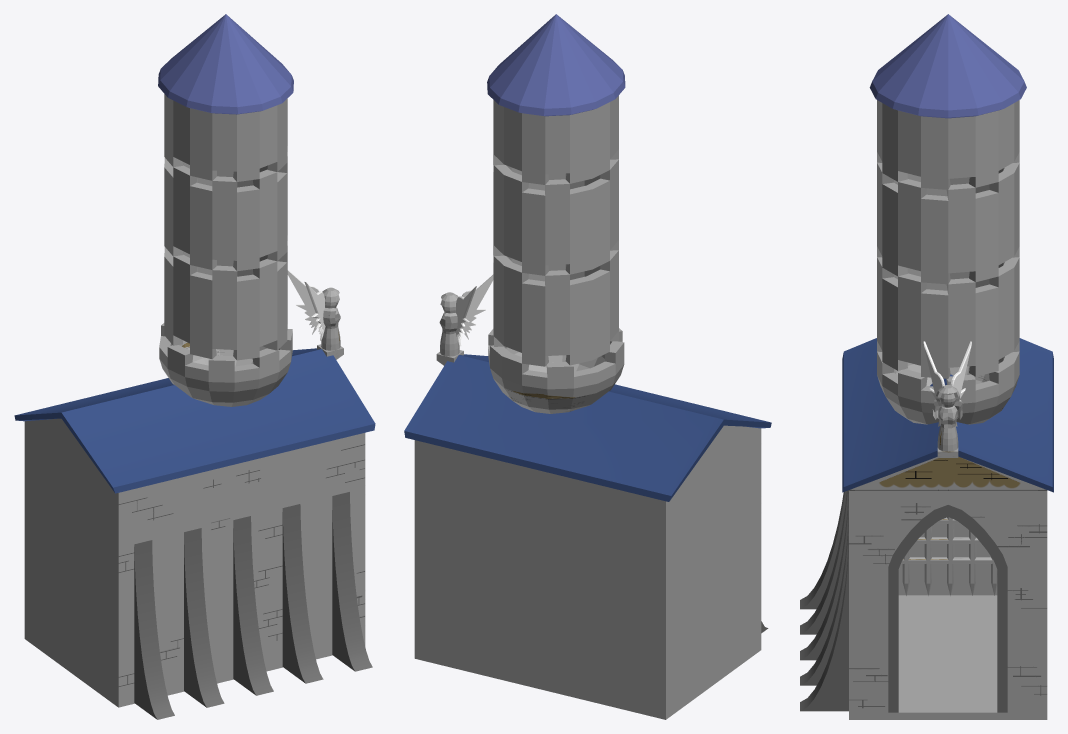
The picture shows the model from 3 angles, left to right: view 1: azimuth 30°, elevation 25°; view 2: azimuth 150°, elevation 25°; view 3: azimuth 270°, elevation 25°; orthographic projection. The views are drawn at different scales.
Visible parts, largest first — view 1: Base, Expansion3, Expansion1, Expansion2, Tower, Angel; view 2: Base, Expansion3, Expansion2, Expansion1, Tower, Angel; view 3: Base, Expansion3, Expansion2, Expansion1, Tower, Gate, Angel.
Boxes of the visible parts, x1,y1,x2,y2 form: Base: (14,348,375,719); Expansion3: (158,14,293,181); Expansion1: (164,241,287,360); Expansion2: (164,152,287,271); Tower: (159,323,292,406); Angel: (287,270,343,359); Base: (404,354,771,719); Expansion3: (487,14,625,184); Expansion2: (493,154,618,275); Expansion1: (493,245,618,366); Tower: (488,328,624,413); Angel: (436,274,493,365); Base: (800,338,1053,719); Expansion3: (869,14,1026,189); Expansion2: (877,162,1019,284); Expansion1: (877,257,1019,378); Tower: (877,351,1019,424); Gate: (901,517,997,595); Angel: (923,341,971,457).
Bounding box in the file's own units: 3.57 × 7.63 × 2.67.
11 materials, 7 textured.
